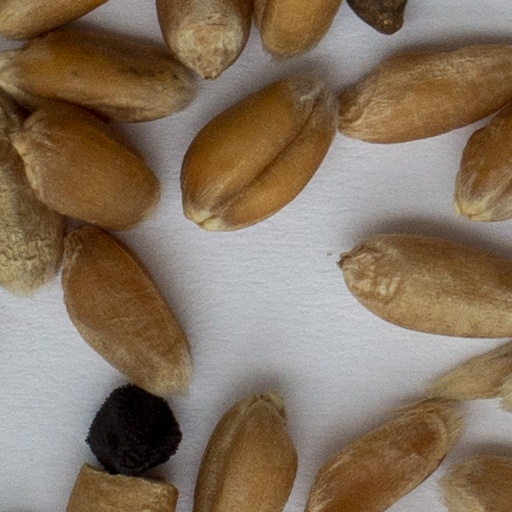Agrostemma-poly: (82, 381, 186, 473)
Wheat-grain-damaged-poly: (67, 464, 178, 511)
